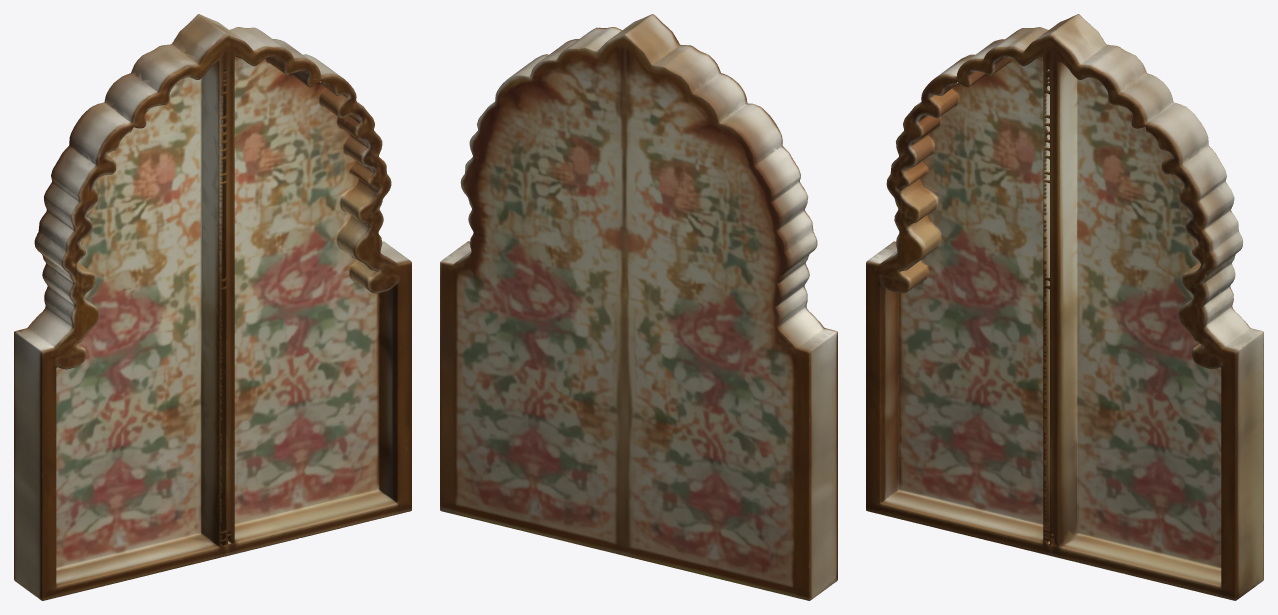
The model's file is floral-folding-screen.glb.
3 renders of one model, left to right at view 1: azimuth 30°, elevation 25°; view 2: azimuth 150°, elevation 25°; view 3: azimuth 330°, elevation 25°, orthographic.
Visible parts, largest first — view 1: world; view 2: world; view 3: world.
Part boxes in pixels (<box>): world: <box>14,14,411,600</box>; world: <box>440,14,837,600</box>; world: <box>866,14,1263,600</box>.
Size of the model in its own units: 0.7455 by 1 by 0.1014.
1 material, 1 textured.
